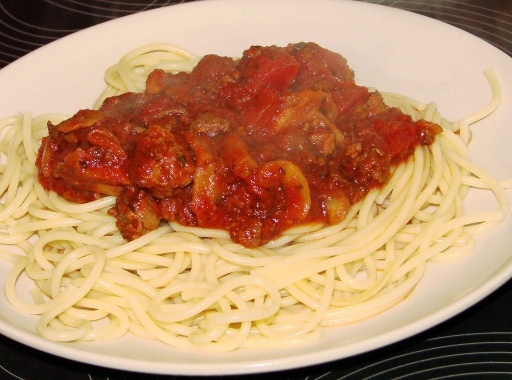background: (0, 24, 410, 209)
